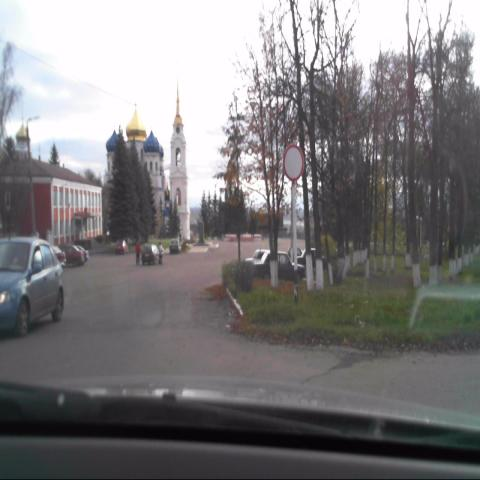3_2: (282, 143, 304, 183)
